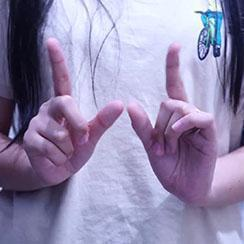W: (17, 30, 224, 215)
